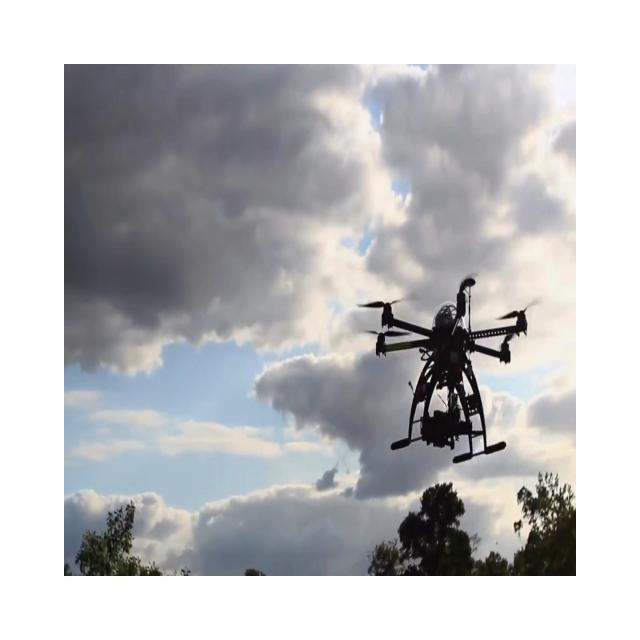drone: (356, 274, 540, 464)
